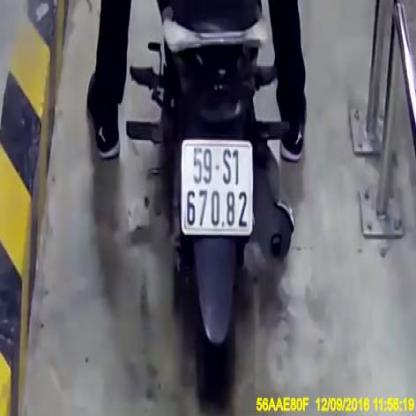Xemay: (181, 140, 253, 236)
